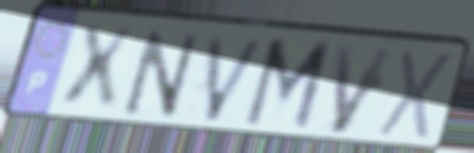M: (239, 36, 337, 136)
N: (120, 26, 203, 120)
V: (329, 42, 398, 137), (201, 34, 270, 125)
X: (373, 47, 458, 144), (57, 24, 138, 114)
